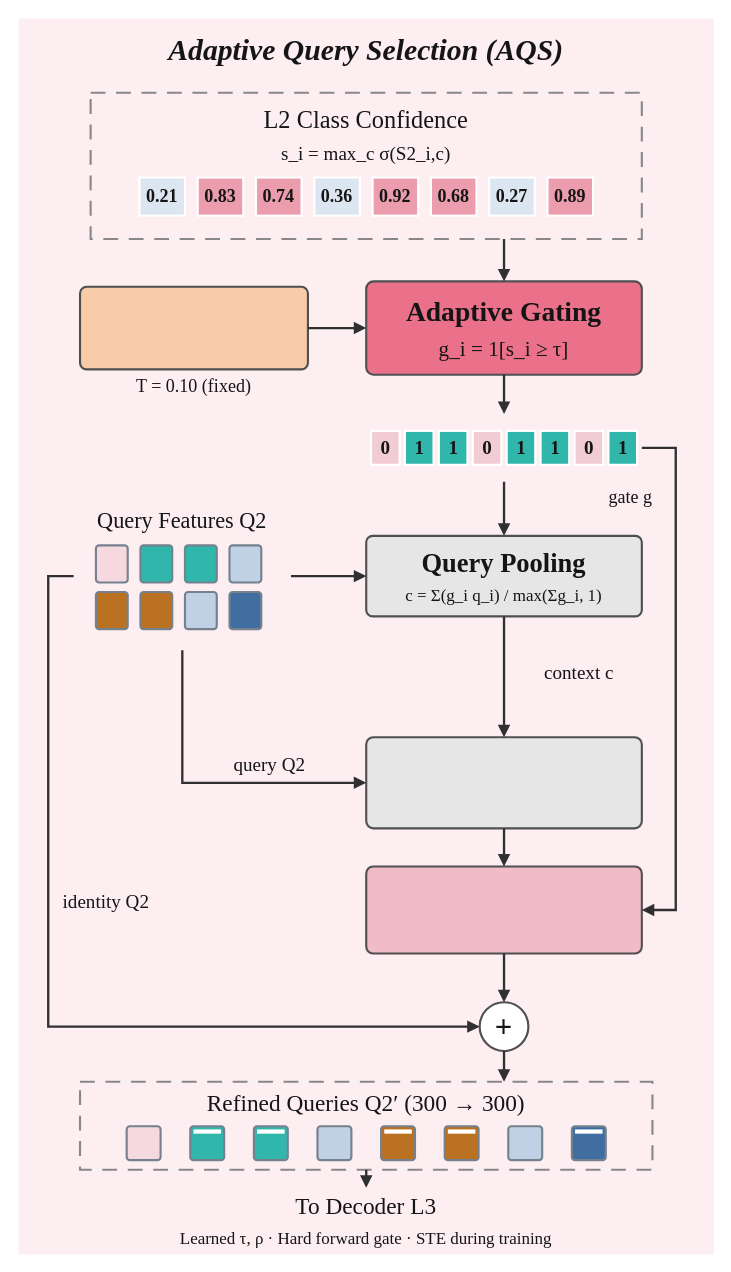
Image size: 731x1272. Some labels were removed from this diagram. The box of each missing label's shape, as (x1, y1, x2, y2) in pixels:
Context Fusion ΔQ = MLP([LN(Q2); c]): (365, 736, 642, 829)
Gated Residual tanh(ρ) · g · ΔQ: (365, 865, 642, 954)
Learned Threshold τ = σ(θ): (78, 285, 308, 370)
